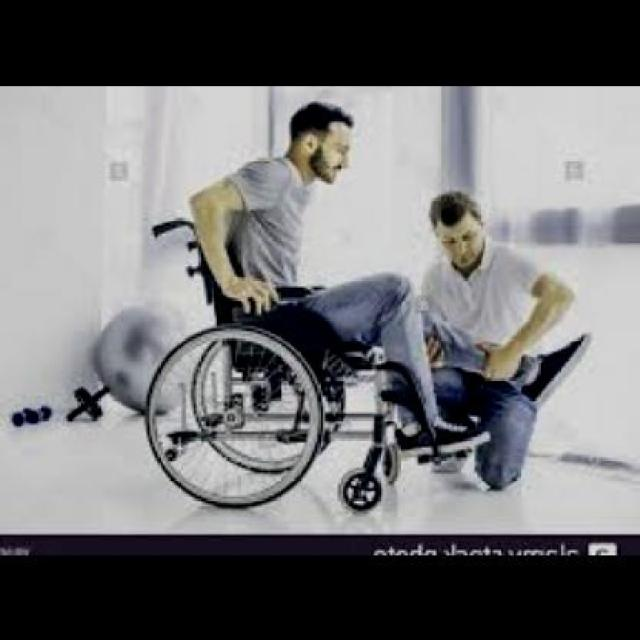wheelchairs: (143, 214, 466, 520)
